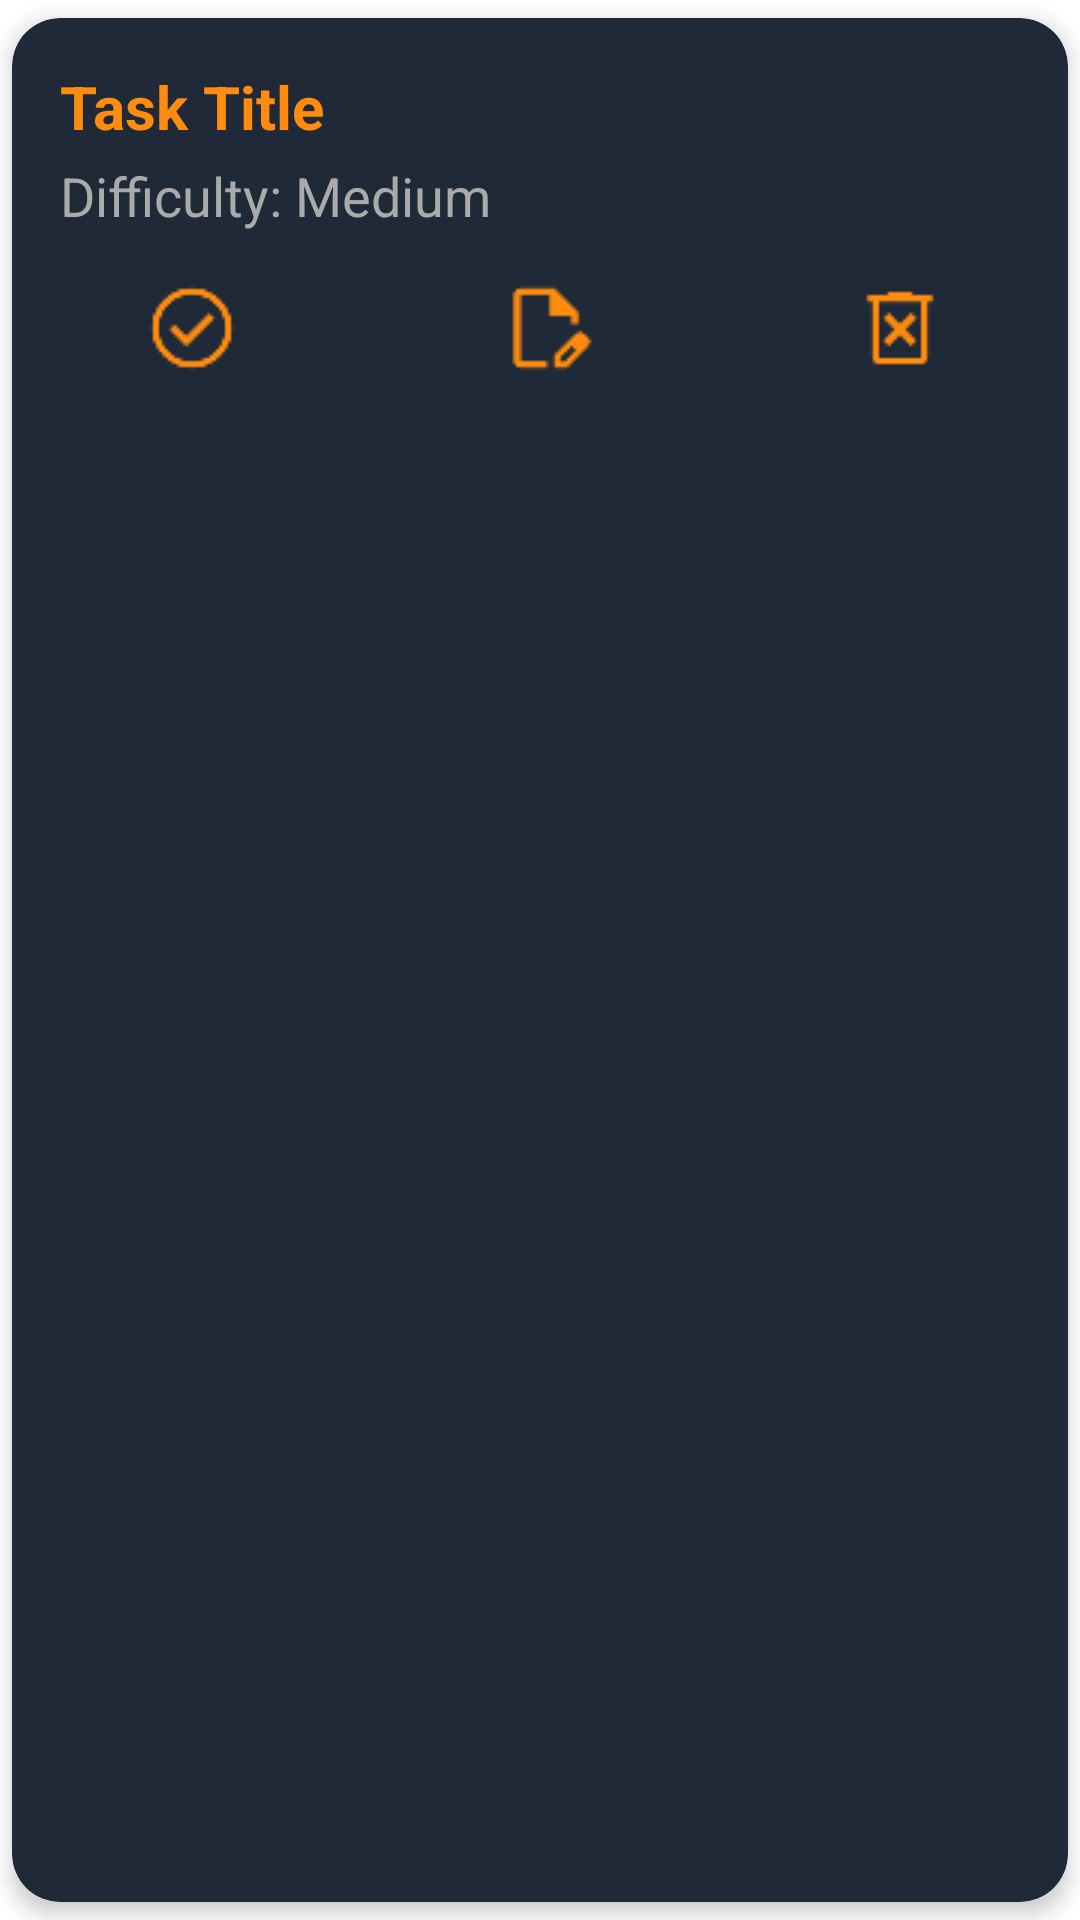

Icons on this 1080px x 1920px Android screen, each with its box as bbox=[x1, y1, x2, y2]:
Delete: bbox=[866, 291, 934, 365]
Done: bbox=[151, 287, 233, 369]
Edit: bbox=[512, 286, 592, 370]
